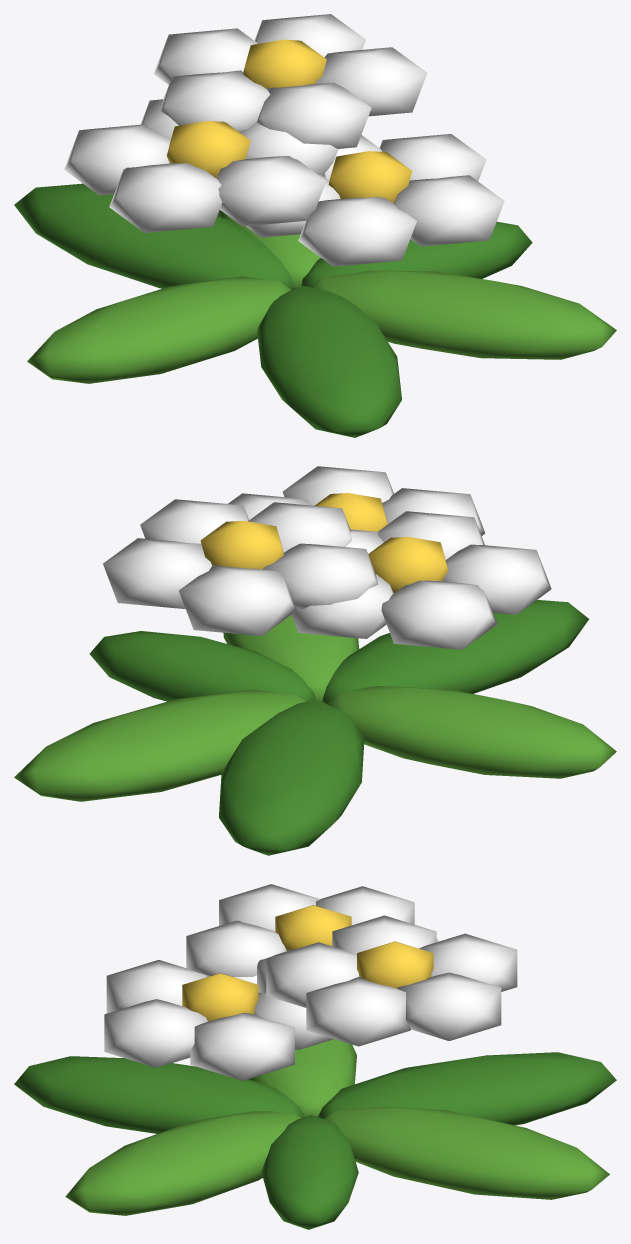
File: FlowersWhite.fbx
3 views of the same model, one above another, from view 1: azimuth 30°, elevation 25°; view 2: azimuth 150°, elevation 25°; view 3: azimuth 270°, elevation 25° (orthographic). The views are drawn at different scales.
Visible parts, largest first — view 1: FlowersWhite; view 2: FlowersWhite; view 3: FlowersWhite.
Boxes of the visible parts, box(x1,y1,x2,y2) form: FlowersWhite: box(14, 14, 616, 437); FlowersWhite: box(14, 466, 616, 855); FlowersWhite: box(14, 884, 616, 1229).
Bounding box in the file's own units: 0.552 × 0.2505 × 0.6263.
1 material, 1 textured.
